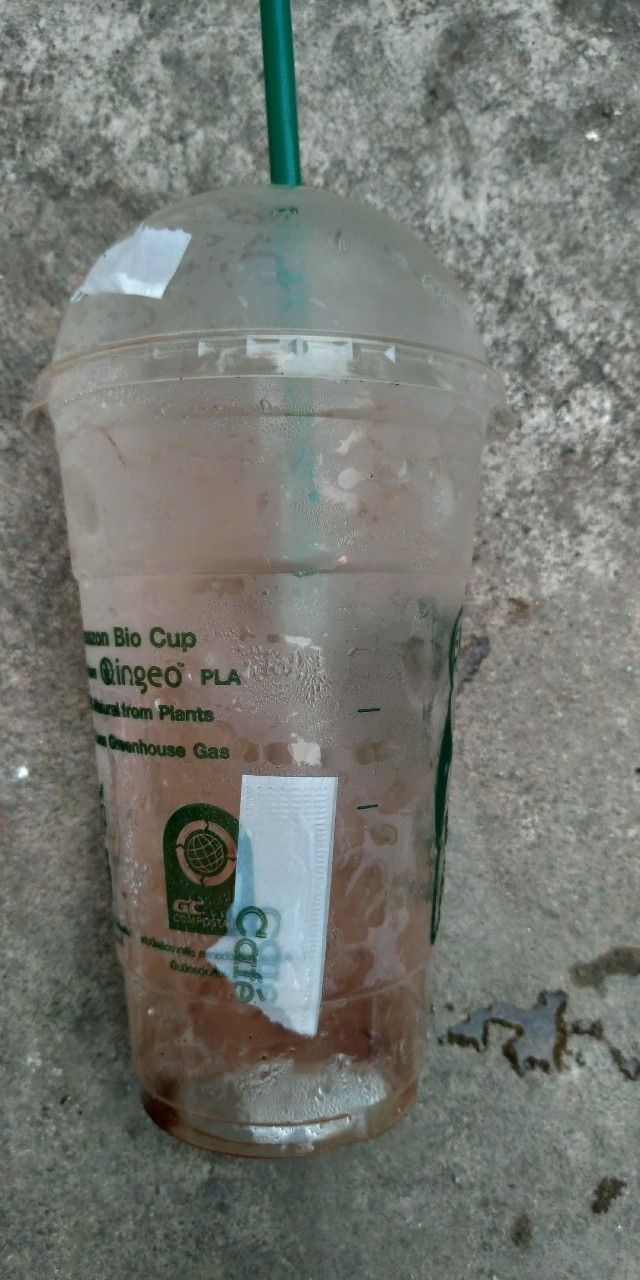PlasticCup: (31, 186, 497, 1157)
